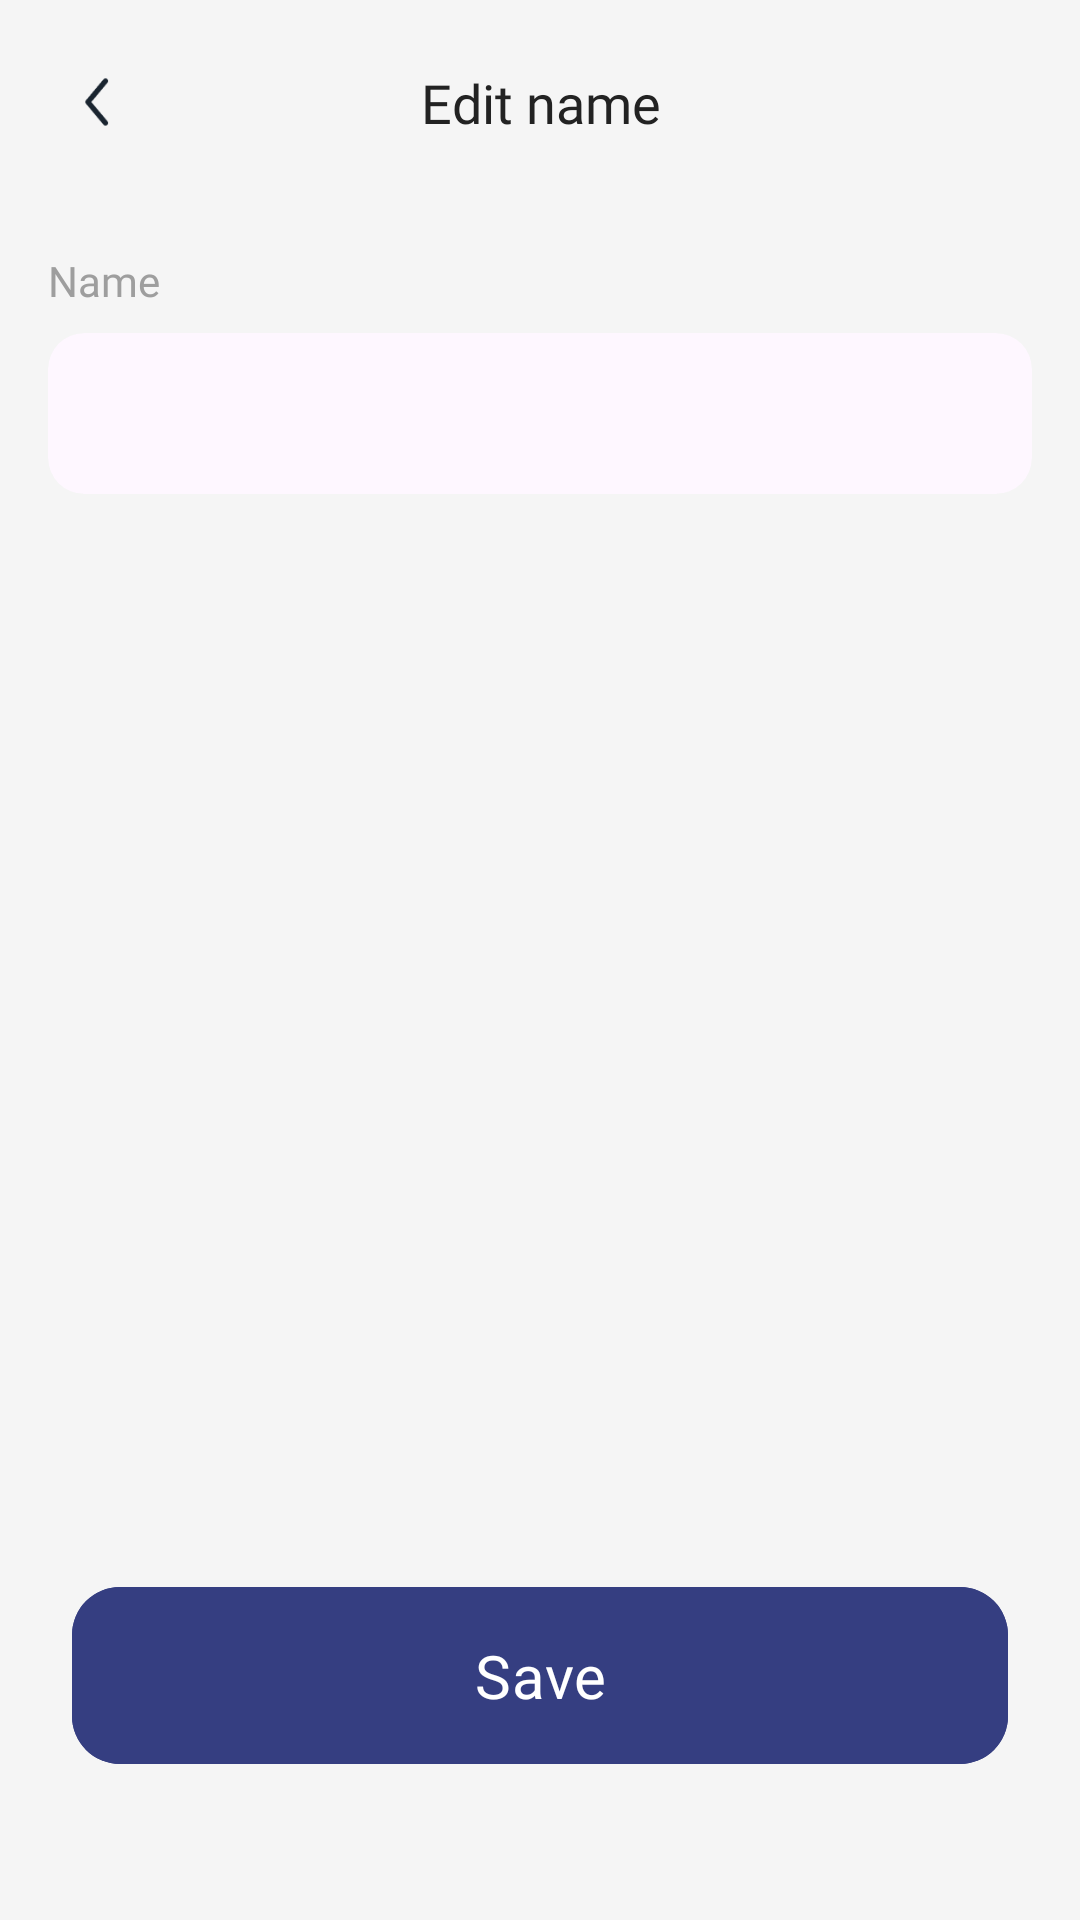

Icon click points for this 1080 x 1920 phone screenshot, format point (x, y):
back: point (96, 102)
